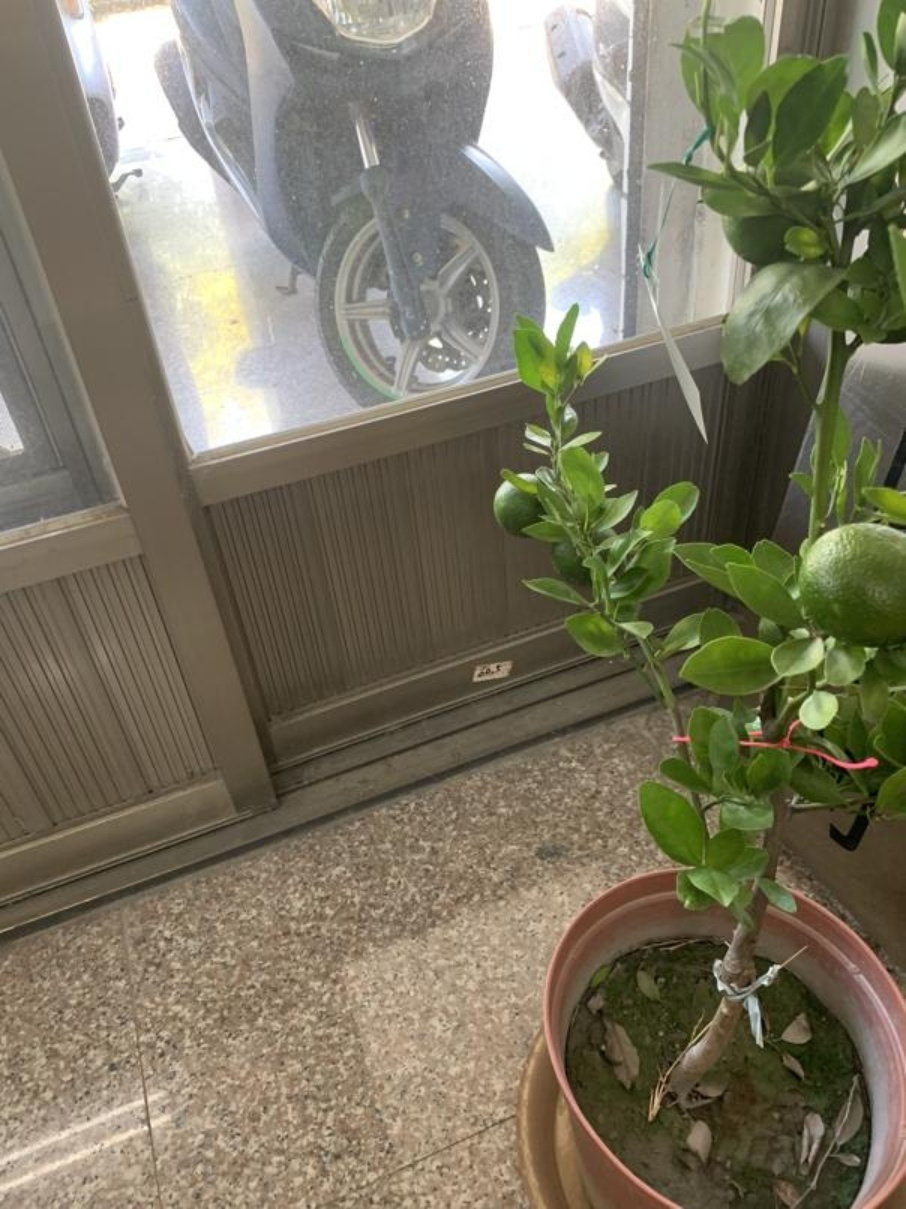Tangerine: (800, 513, 904, 646), (491, 468, 544, 537)
